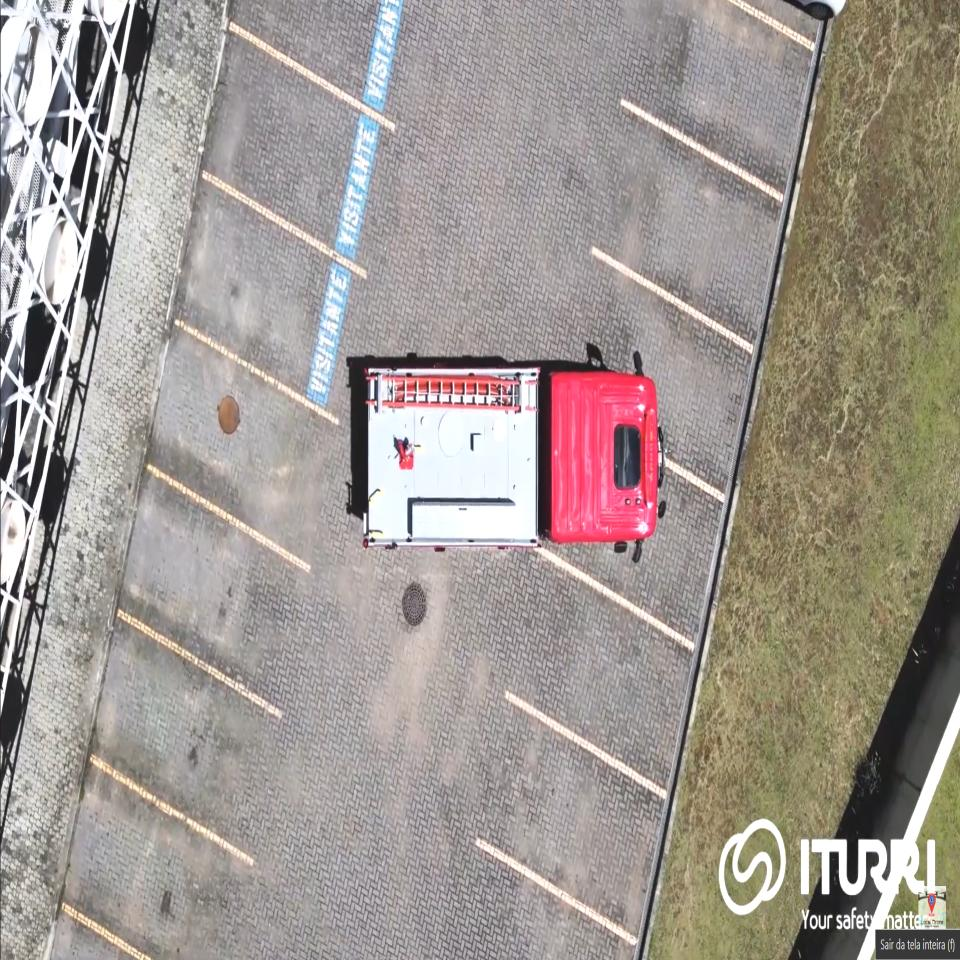bombeiro: (360, 344, 670, 567)
